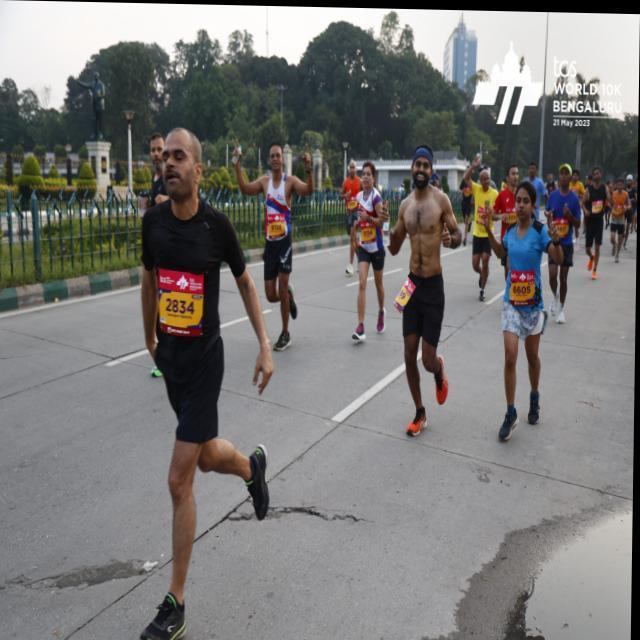dorsal: (154, 256, 204, 342), (510, 266, 537, 304)
